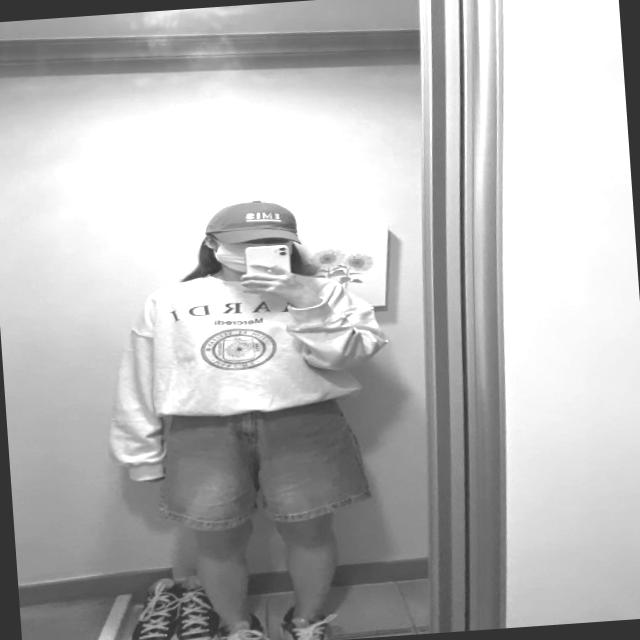mtm: (99, 261, 398, 484)
shortpants: (148, 394, 372, 534)
